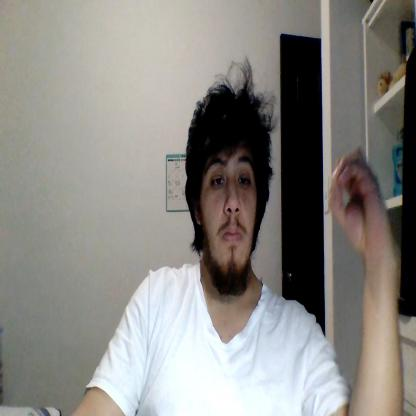O: (328, 146, 387, 247)
